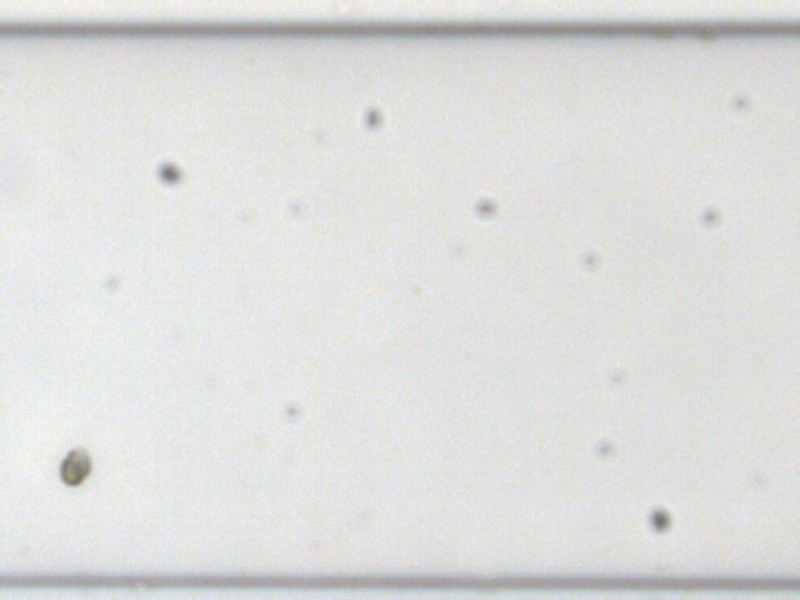Dunaliella salina: (56, 445, 93, 487)
